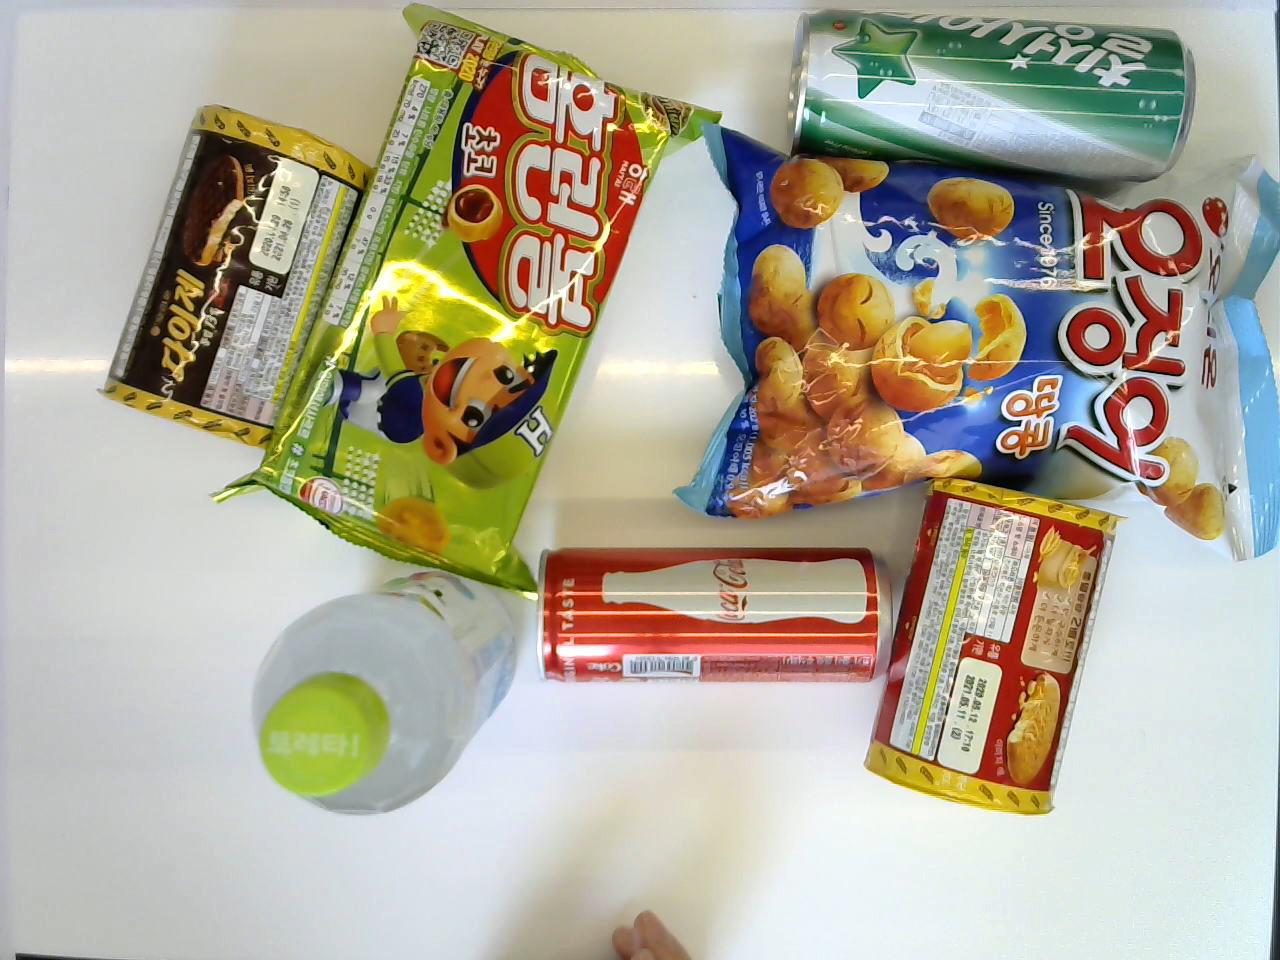cidar: (787, 7, 1195, 179)
coke: (536, 546, 893, 685)
diget_choco: (102, 100, 370, 451)
diget_ori: (869, 477, 1121, 819)
homerunball: (209, 6, 722, 594)
squid_peanut: (689, 117, 1273, 564)
toreta: (242, 557, 535, 818)
